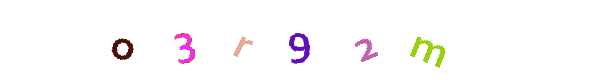2: (260, 0, 340, 80)
3: (146, 0, 226, 80)
9: (255, 0, 335, 80)
M: (388, 0, 468, 80)
O: (88, 0, 168, 80)
R: (247, 0, 327, 80)
